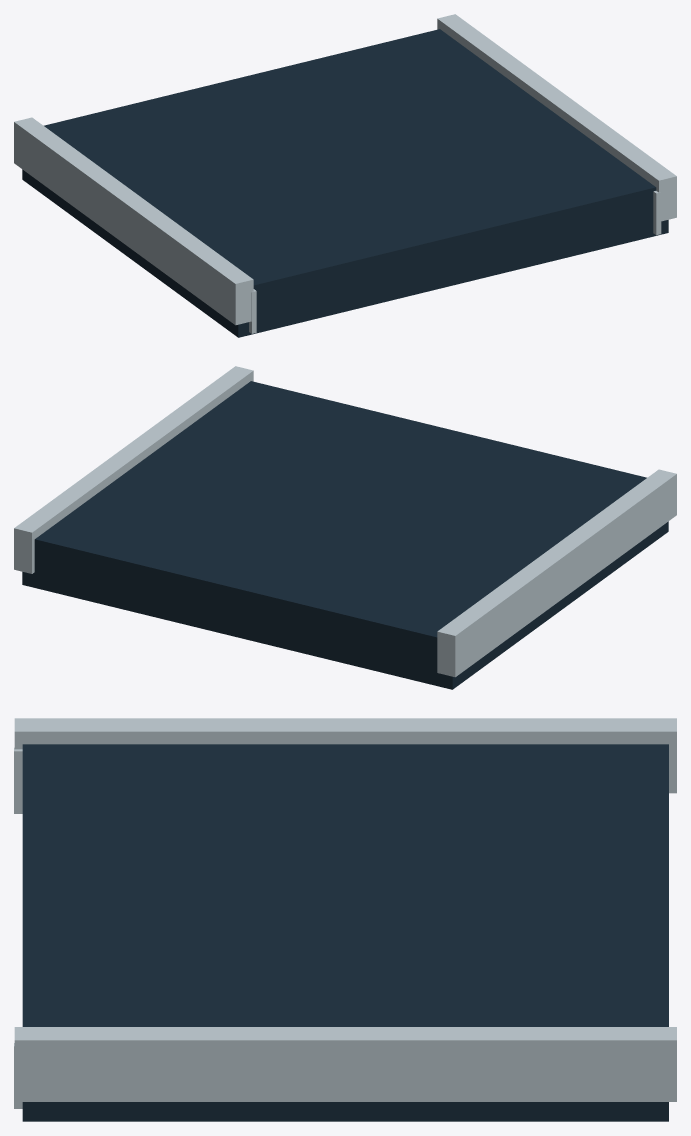
File: 17_L74_HighSpeedExposureShutter.fbx
The picture shows the model from 3 angles, top to bottom: view 1: azimuth 30°, elevation 25°; view 2: azimuth 150°, elevation 25°; view 3: azimuth 270°, elevation 25°; orthographic projection. The views are drawn at different scales.
Parts seen in each view (by area): view 1: HighSpeedExposureShutter; view 2: HighSpeedExposureShutter; view 3: HighSpeedExposureShutter.
Boxes of the visible parts, <box> form: HighSpeedExposureShutter: <box>14,14,676,337</box>; HighSpeedExposureShutter: <box>14,366,676,689</box>; HighSpeedExposureShutter: <box>14,718,676,1121</box>.
Size of the model in its own units: 190 by 24.25 by 165.
